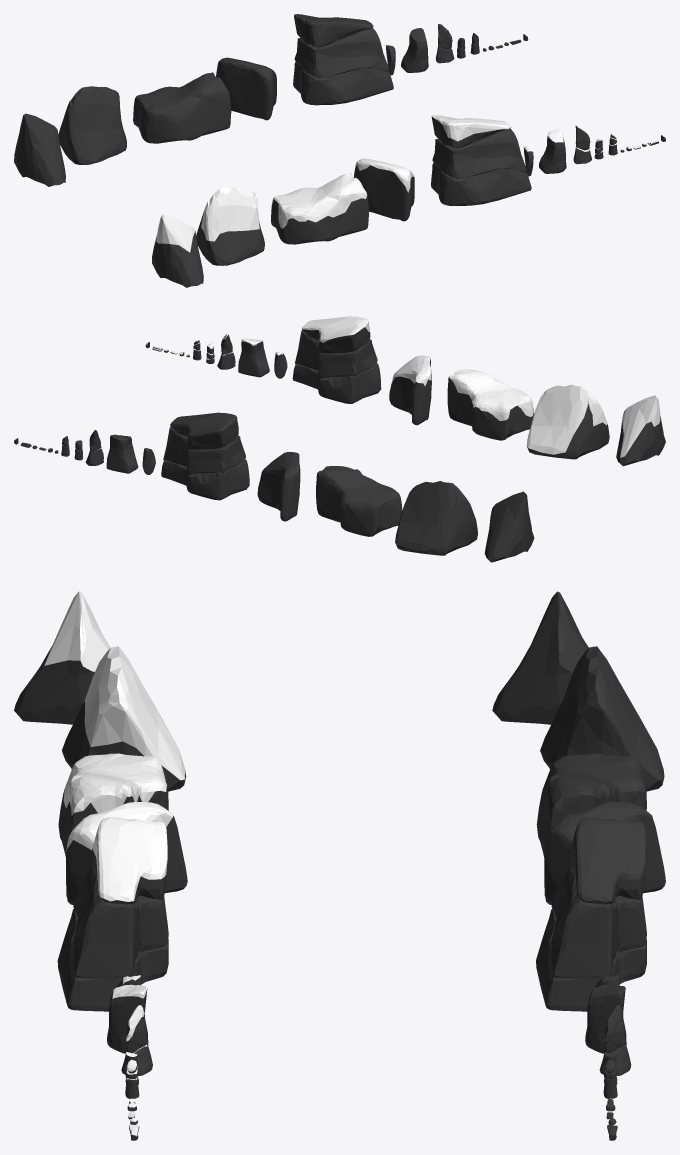
Rendered from rocks.fbx.
3 views of the same model, one above another, from view 1: azimuth 30°, elevation 25°; view 2: azimuth 150°, elevation 25°; view 3: azimuth 270°, elevation 25° (orthographic). The views are drawn at different scales.
Visible parts, largest first — view 1: rock_5, rock_5_snow, rock_3_snow, rock_3, rock_2_snow, rock_2, rock_1, rock_1_snow, rock_4_snow, rock_4, rock_7, rock_7_snow (+2 smaller); view 2: rock_5, rock_5_snow, rock_2_snow, rock_2, rock_3_snow, rock_3, rock_1_snow, rock_1, rock_4, rock_4_snow, rock_7_snow, rock_7 (+2 smaller); view 3: rock_5_snow, rock_5, rock_2_snow, rock_2, rock_1_snow, rock_1, rock_3, rock_3_snow, rock_4, rock_4_snow, rock_7, rock_7_snow (+2 smaller).
Boxes of the visible parts, x1,y1,x2,y2 form: rock_5: (293, 14, 393, 105); rock_5_snow: (431, 115, 531, 205); rock_3_snow: (271, 173, 368, 244); rock_3: (133, 72, 231, 143); rock_2_snow: (196, 187, 264, 265); rock_2: (58, 86, 126, 164); rock_1: (14, 113, 65, 186); rock_1_snow: (152, 214, 203, 287); rock_4_snow: (353, 158, 414, 221); rock_4: (216, 57, 276, 120); rock_7: (401, 28, 428, 72); rock_7_snow: (539, 129, 566, 173); rock_5: (161, 412, 249, 500); rock_5_snow: (292, 316, 381, 403); rock_2_snow: (526, 384, 609, 459); rock_2: (395, 481, 477, 555); rock_3_snow: (447, 369, 533, 440); rock_3: (316, 466, 402, 536); rock_1_snow: (616, 395, 665, 465); rock_1: (484, 491, 534, 562); rock_4: (257, 452, 300, 521); rock_4_snow: (389, 355, 431, 425); rock_7_snow: (238, 338, 269, 377); rock_7: (106, 434, 138, 473); rock_5_snow: (57, 817, 168, 1011); rock_5: (536, 817, 646, 1011); rock_2_snow: (62, 646, 186, 791); rock_2: (540, 646, 664, 791); rock_1_snow: (14, 591, 110, 724); rock_1: (492, 591, 588, 724); rock_3: (536, 753, 646, 857); rock_3_snow: (58, 753, 168, 856); rock_4: (544, 802, 665, 904); rock_4_snow: (66, 802, 187, 904); rock_7: (585, 984, 626, 1053); rock_7_snow: (107, 984, 148, 1053).
Size of the model in its own units: 312 by 44.6 by 195.
